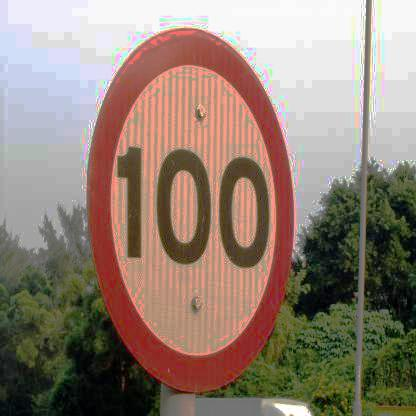Speed Limit -100-: (82, 25, 298, 397)
